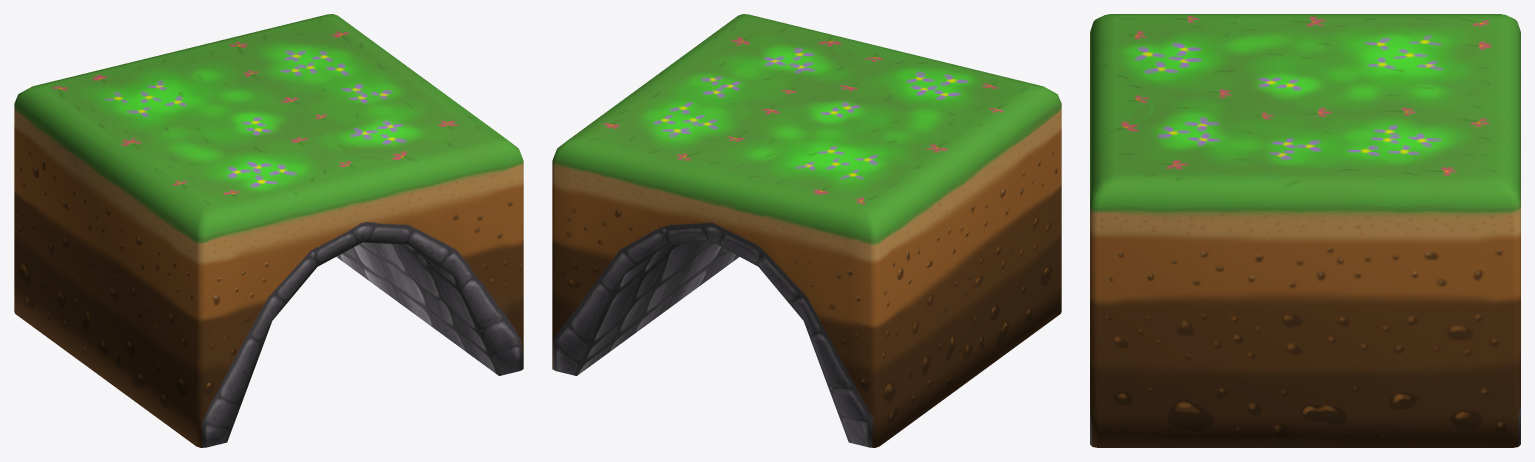
The model's file is UnderPassageGrass01.fbx.
3 views of the same model, side by side, from view 1: azimuth 30°, elevation 25°; view 2: azimuth 150°, elevation 25°; view 3: azimuth 270°, elevation 25° (orthographic). The views are drawn at different scales.
Parts seen in each view (by area): view 1: GrassUnderPassage01; view 2: GrassUnderPassage01; view 3: GrassUnderPassage01.
Part boxes in pixels (x1=…): GrassUnderPassage01: x1=14, y1=14, x2=523, y2=447; GrassUnderPassage01: x1=552, y1=14, x2=1061, y2=447; GrassUnderPassage01: x1=1090, y1=14, x2=1520, y2=447.
Size of what is drawn, in the model's own units: 6 by 4 by 6.
